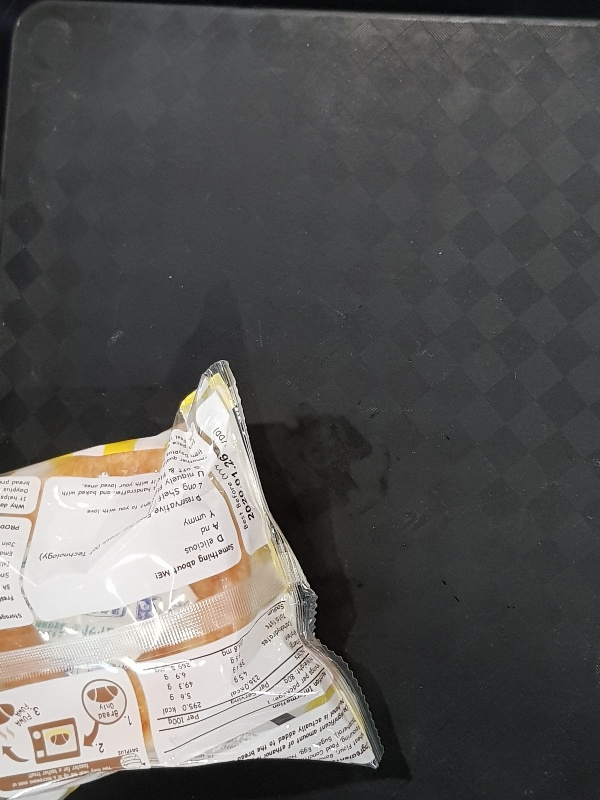Dayplus Banana: (1, 357, 386, 800)
